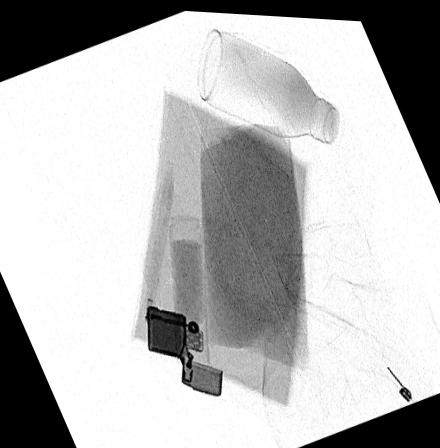Lighter: (145, 301, 224, 394)
